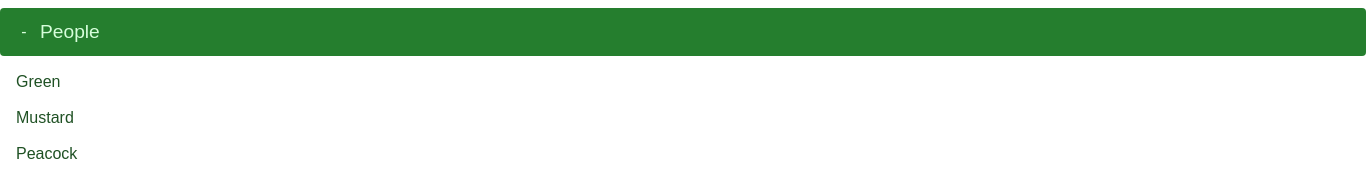
Test: Category › reorders the suspects based upon their cleared status
Step 1. Click the list item "Green" → (38, 82), box [16, 73, 60, 90]
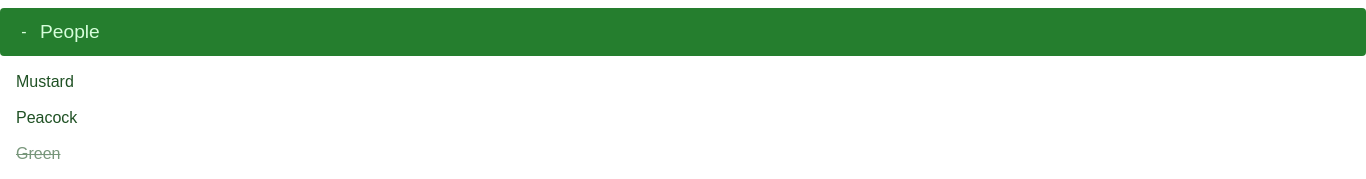
Check: the elements with test id "suspect" read "Mustard", "Peacock", "Green", in this order, box [16, 73, 74, 90]; [16, 109, 77, 126]; [16, 145, 60, 162]
